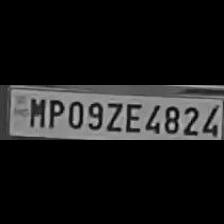0: (64, 97, 84, 129)
2: (180, 101, 198, 135)
4: (198, 101, 220, 135), (142, 100, 160, 134)
8: (162, 101, 180, 133)
9: (84, 96, 104, 130)
E: (122, 98, 140, 132)
M: (26, 95, 46, 127)
P: (45, 94, 63, 128)
Z: (104, 98, 122, 132)
